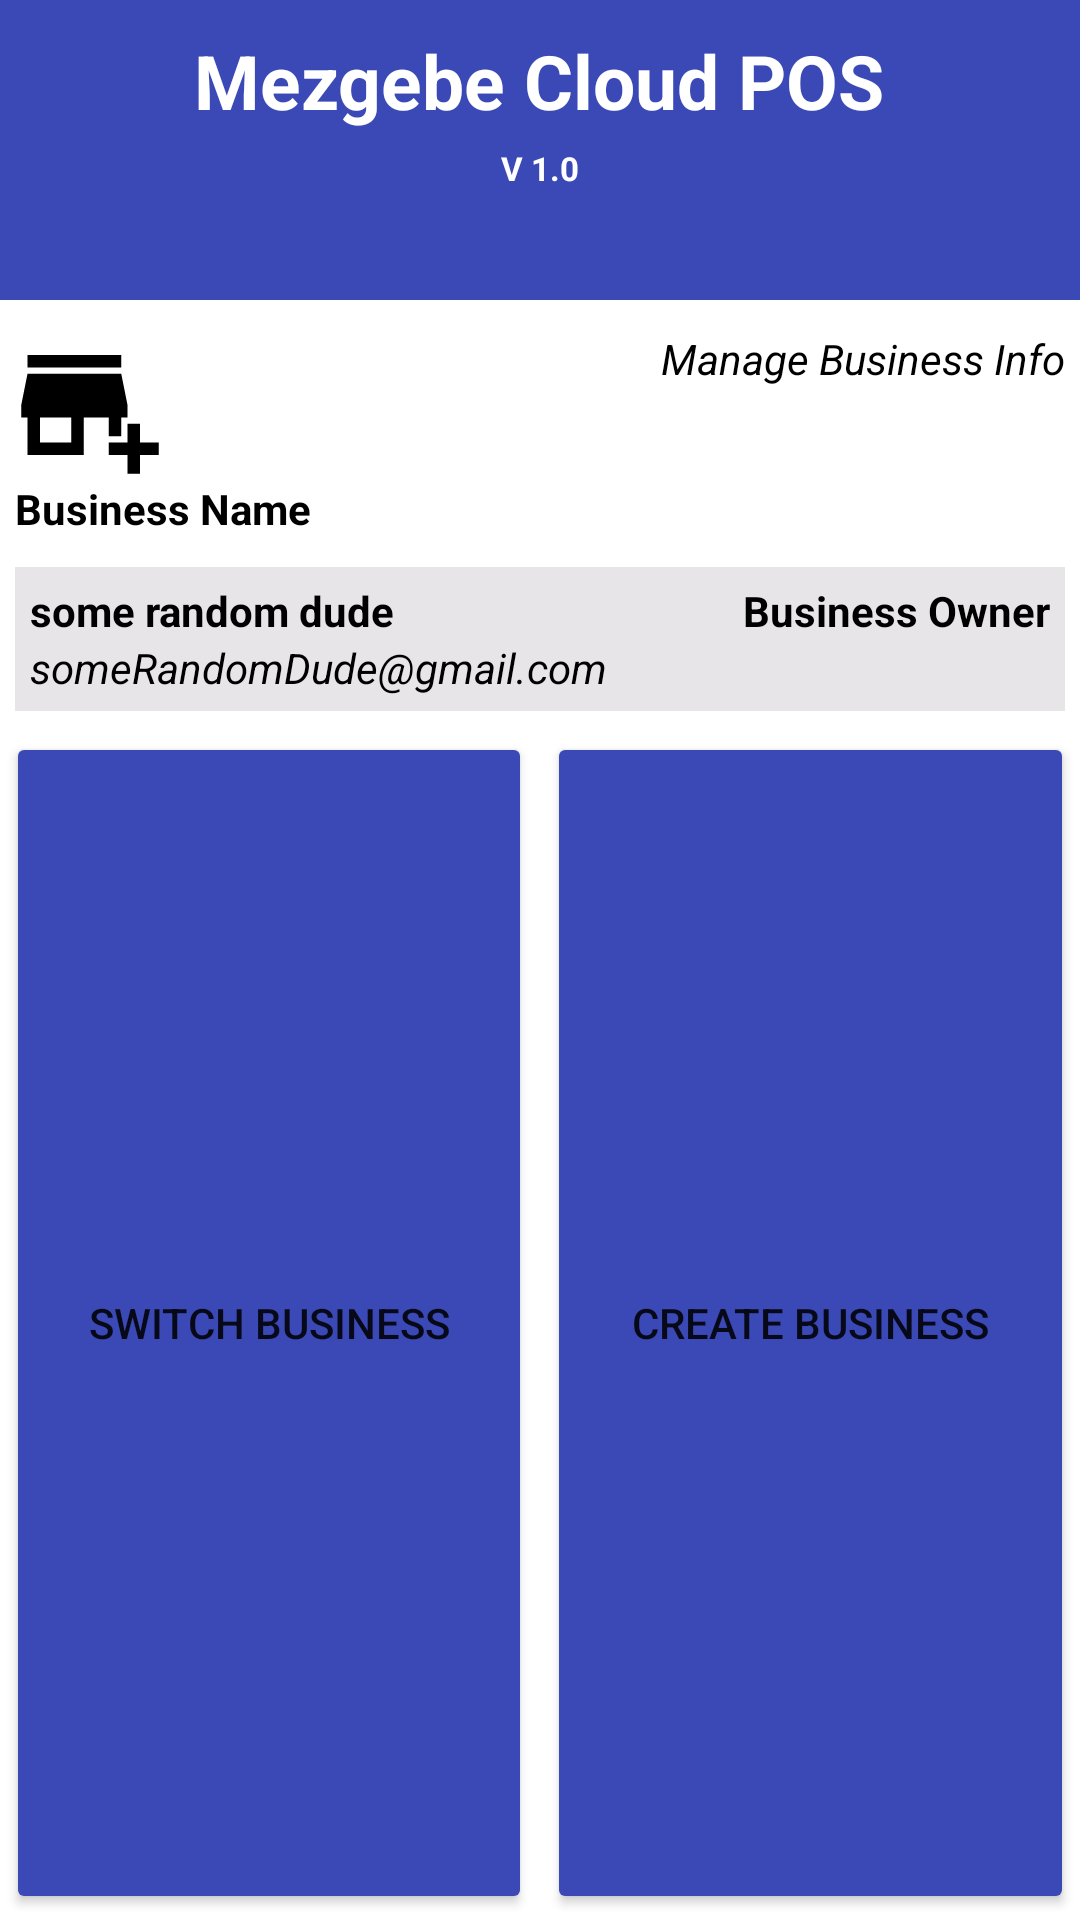

Named icons in this screenshot (1080×1920) and their bounding boxes, [left=x1, top=y1, right=x2, bottom=y2]:
add business: [left=21, top=355, right=159, bottom=474]
